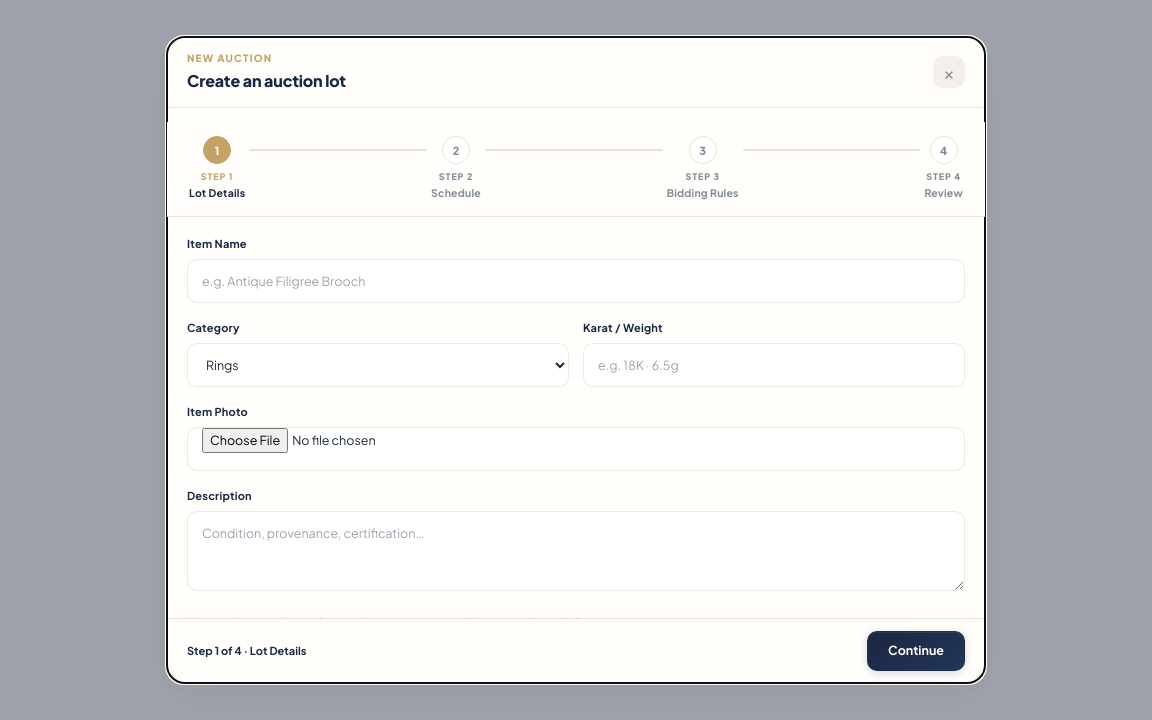
Scenario: invalid  rejected with exact message
Type "Test Ring" into the field with placeholder "e.g. Antique Filigree Brooch" at x=576, y=280, box [187,258,965,302]
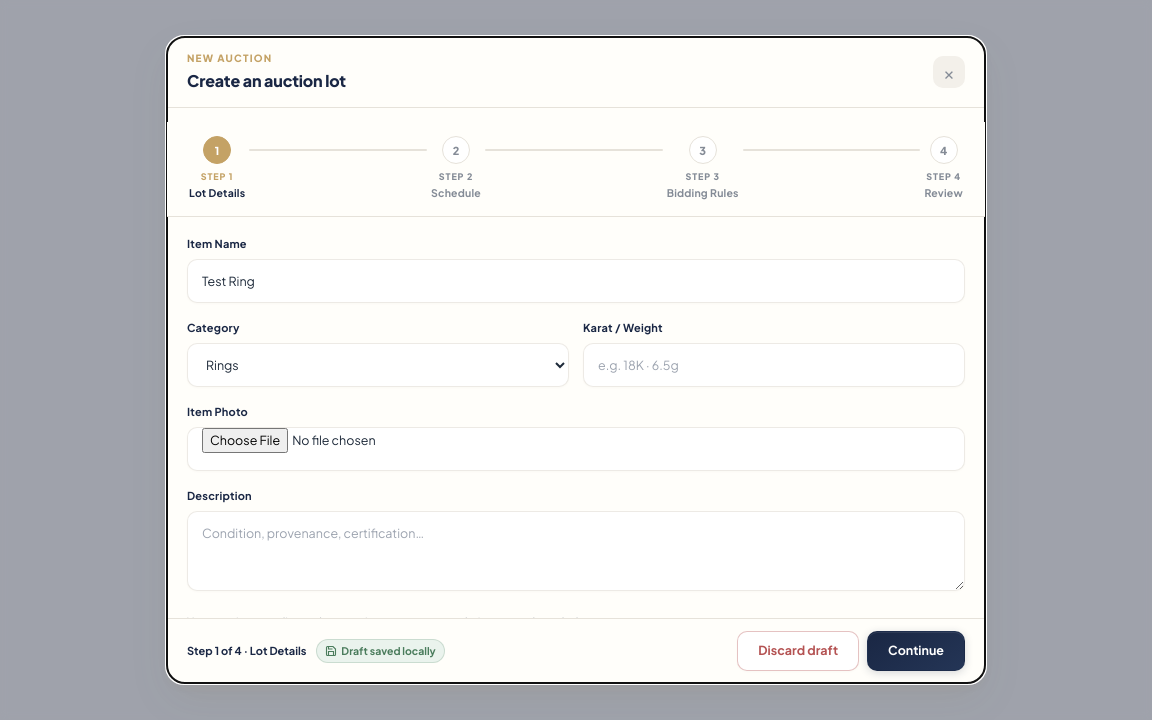
Click the button "Continue" at x=916, y=651, box [867,631,965,671]
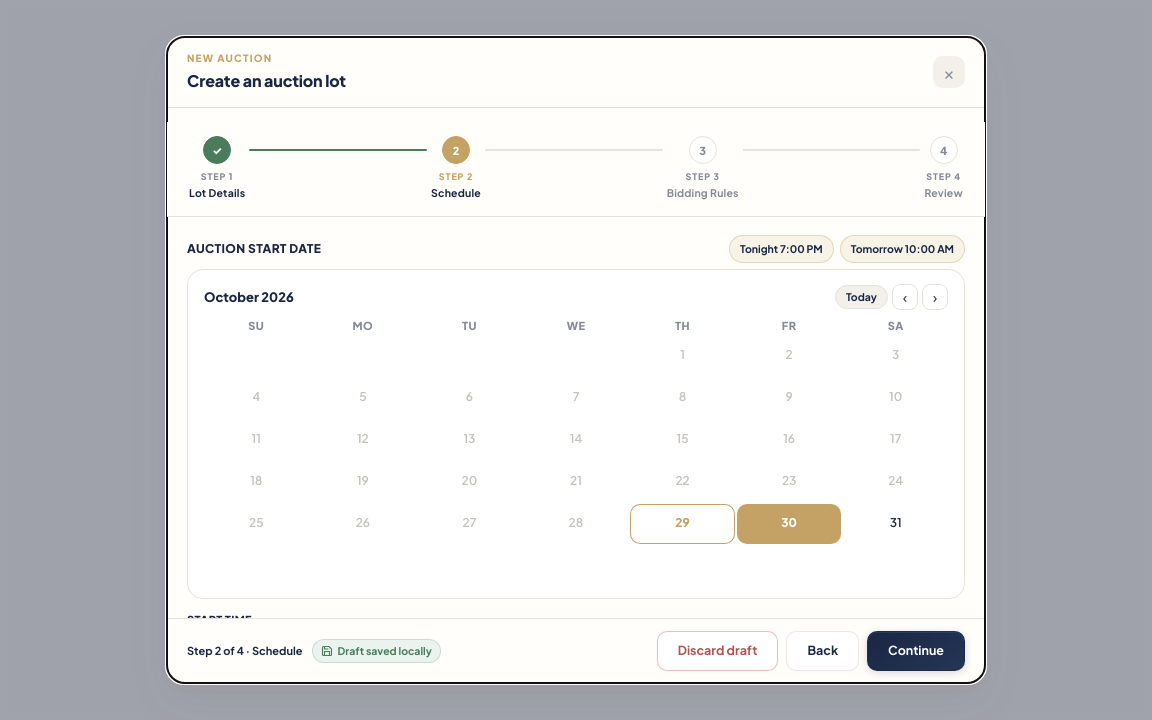
Click the button "Continue" at x=916, y=651, box [867,631,965,671]
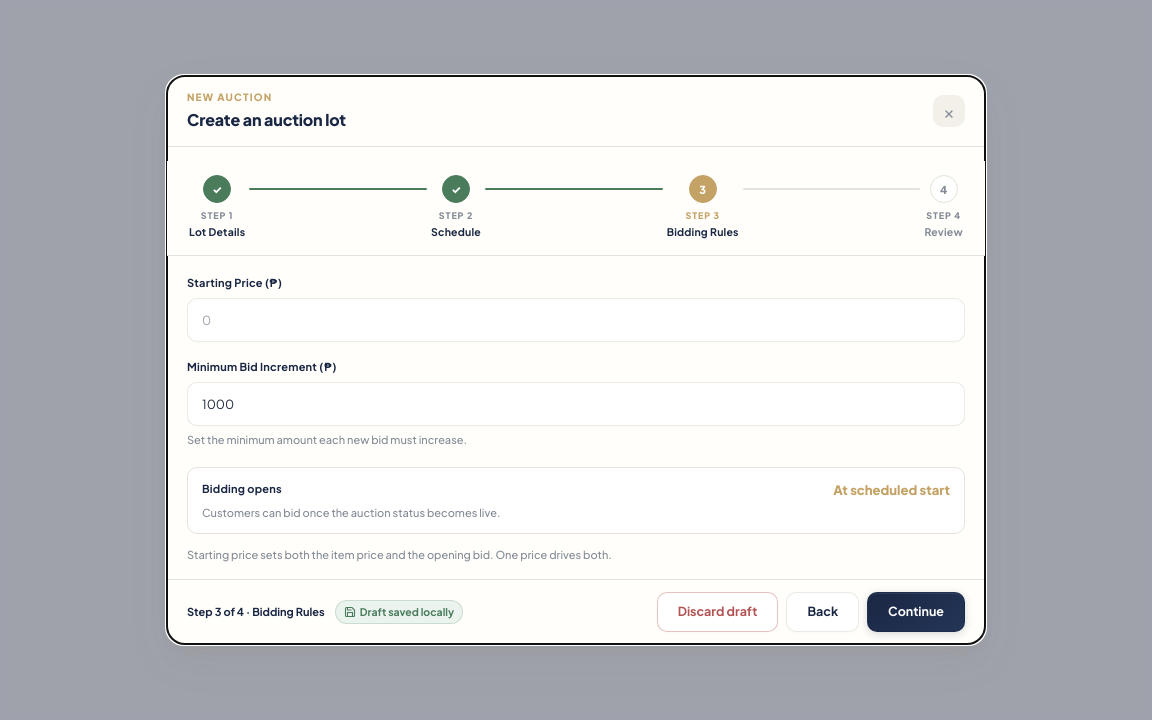
Clear the number field labelled "Minimum Bid Increment (₱)" at x=576, y=404, box [187,382,965,426]
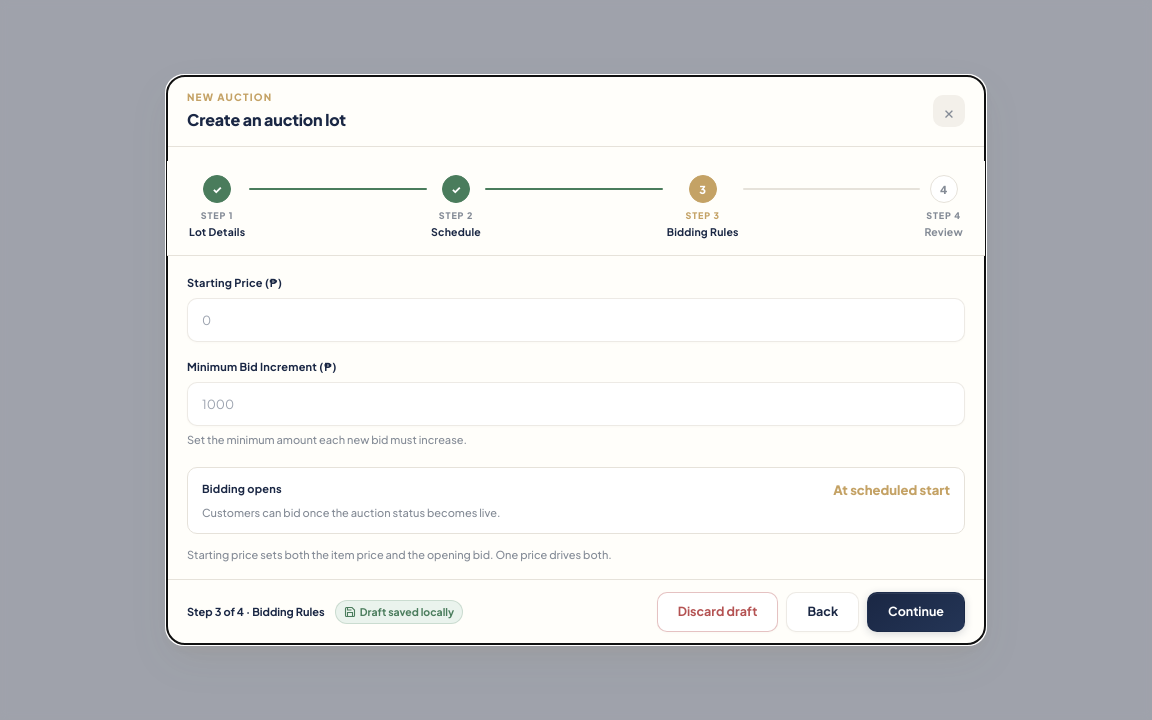
Click the button "Continue" at x=916, y=612, box [867,592,965,632]
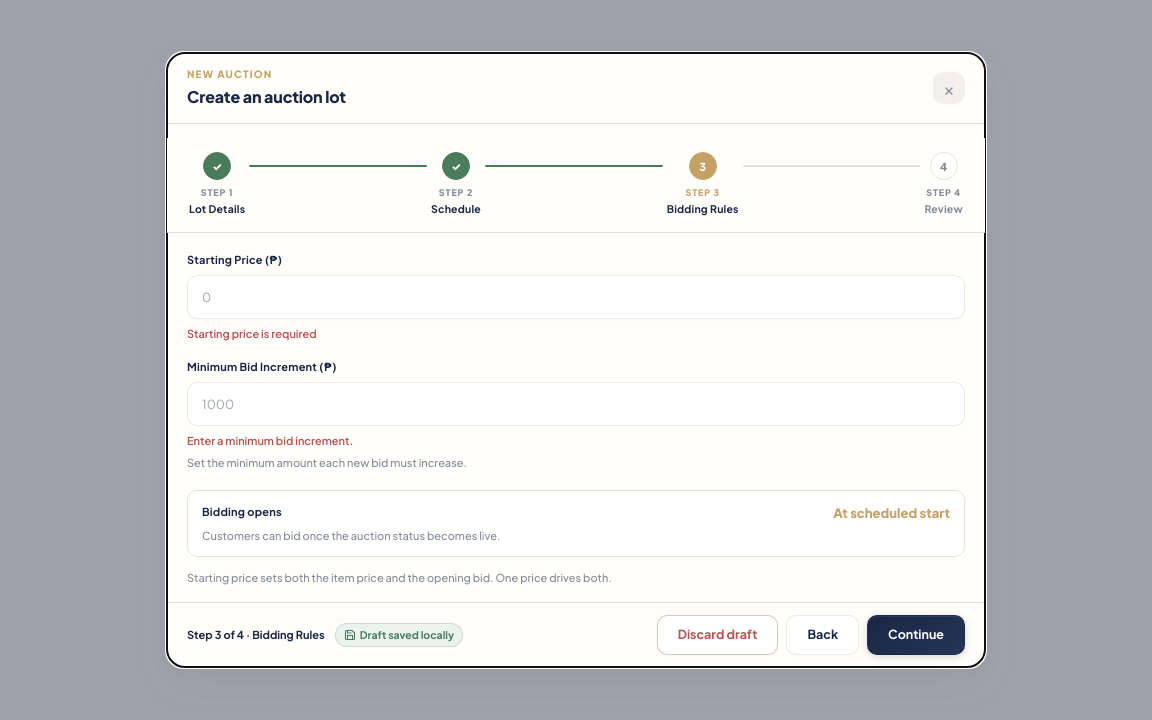
Expected: the text "Enter a minimum bid increment." is shown, [187,434,353,447]
